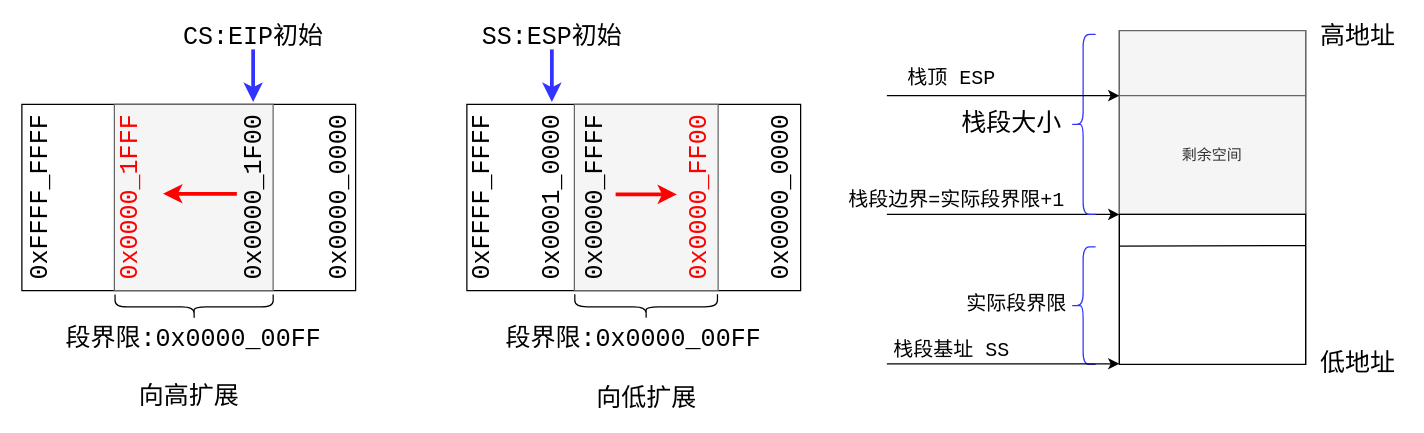
This 1424x433 diagram has some shape labels left out. The shapes that lost their labels are listed below. From the top down, each one's centre as x and y in pixels, then its label:
the point at 1212,62: 已用空间
the point at 1212,288: 非堆栈区间
